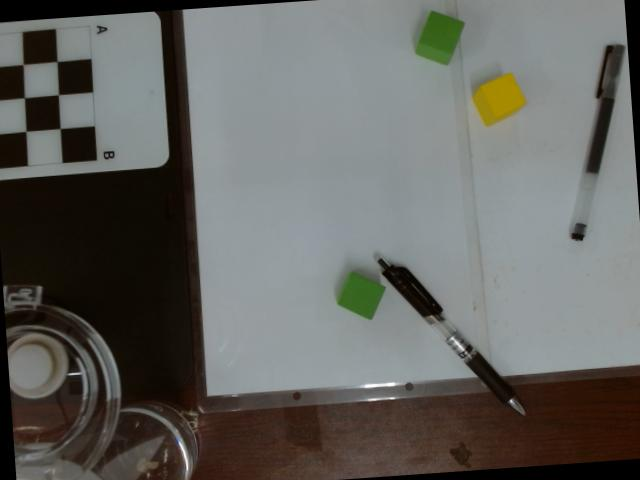PEN: (371, 246, 531, 423), (567, 41, 626, 241)
